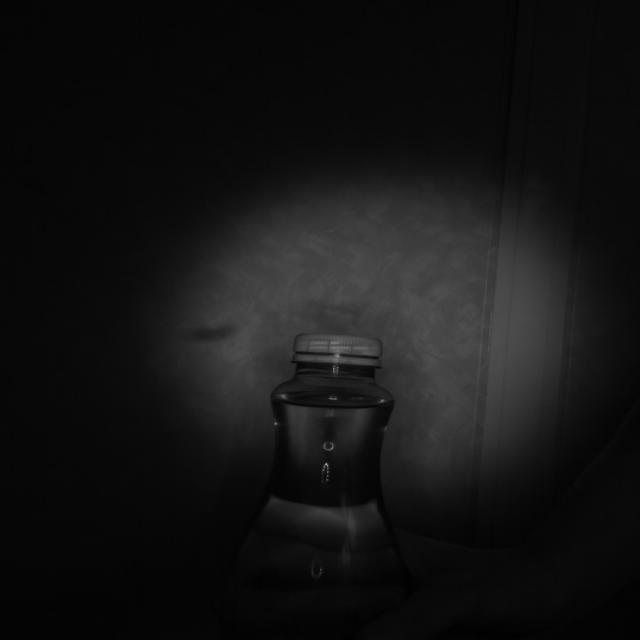Not Good: (293, 334, 381, 367)
